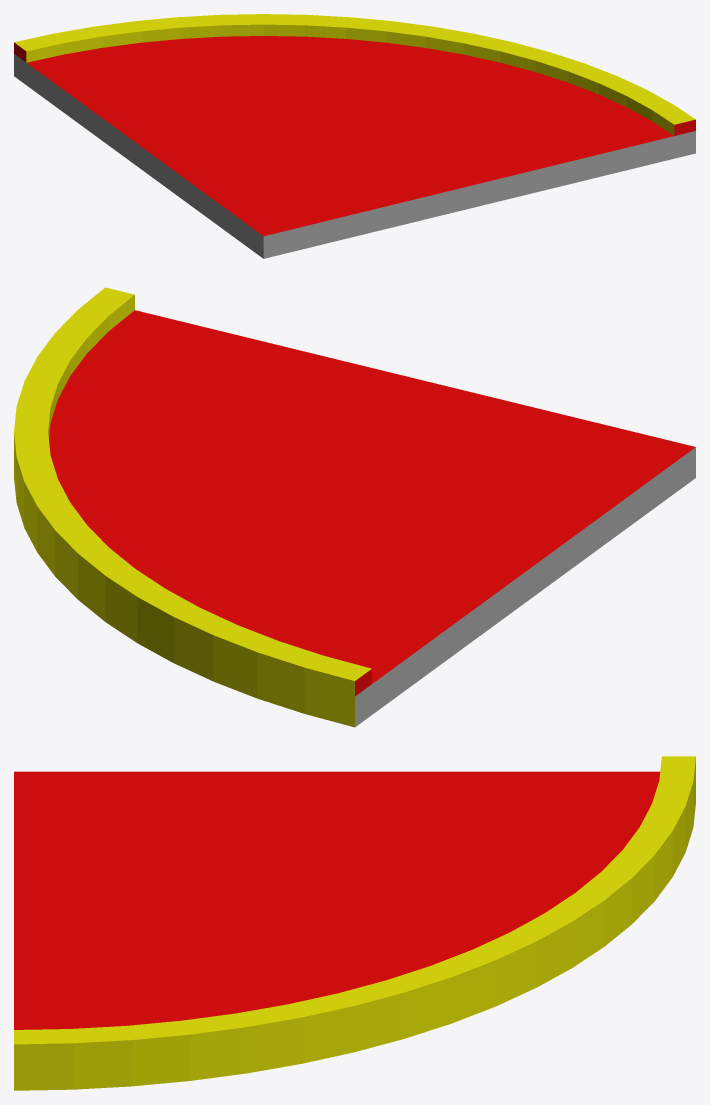
File: UV_TRI_WalkwayCorner_1Rims_2x2_DTG.fbx
3 views of the same model, one above another, from view 1: azimuth 30°, elevation 25°; view 2: azimuth 150°, elevation 25°; view 3: azimuth 270°, elevation 25° (orthographic). The views are drawn at different scales.
Visible parts, largest first — view 1: WalkwayCorner_NoRim; view 2: WalkwayCorner_NoRim; view 3: WalkwayCorner_NoRim.
Boxes of the visible parts, x1,y1,x2,y2 form: WalkwayCorner_NoRim: (14, 14, 695, 258); WalkwayCorner_NoRim: (14, 287, 695, 727); WalkwayCorner_NoRim: (14, 756, 695, 1090).
Size of the model in its own units: 2 by 0.15 by 2.
